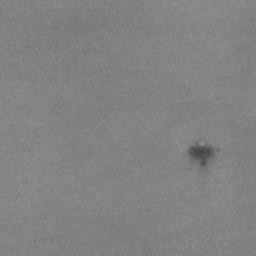Iron sheet ash: (188, 144, 214, 167)
